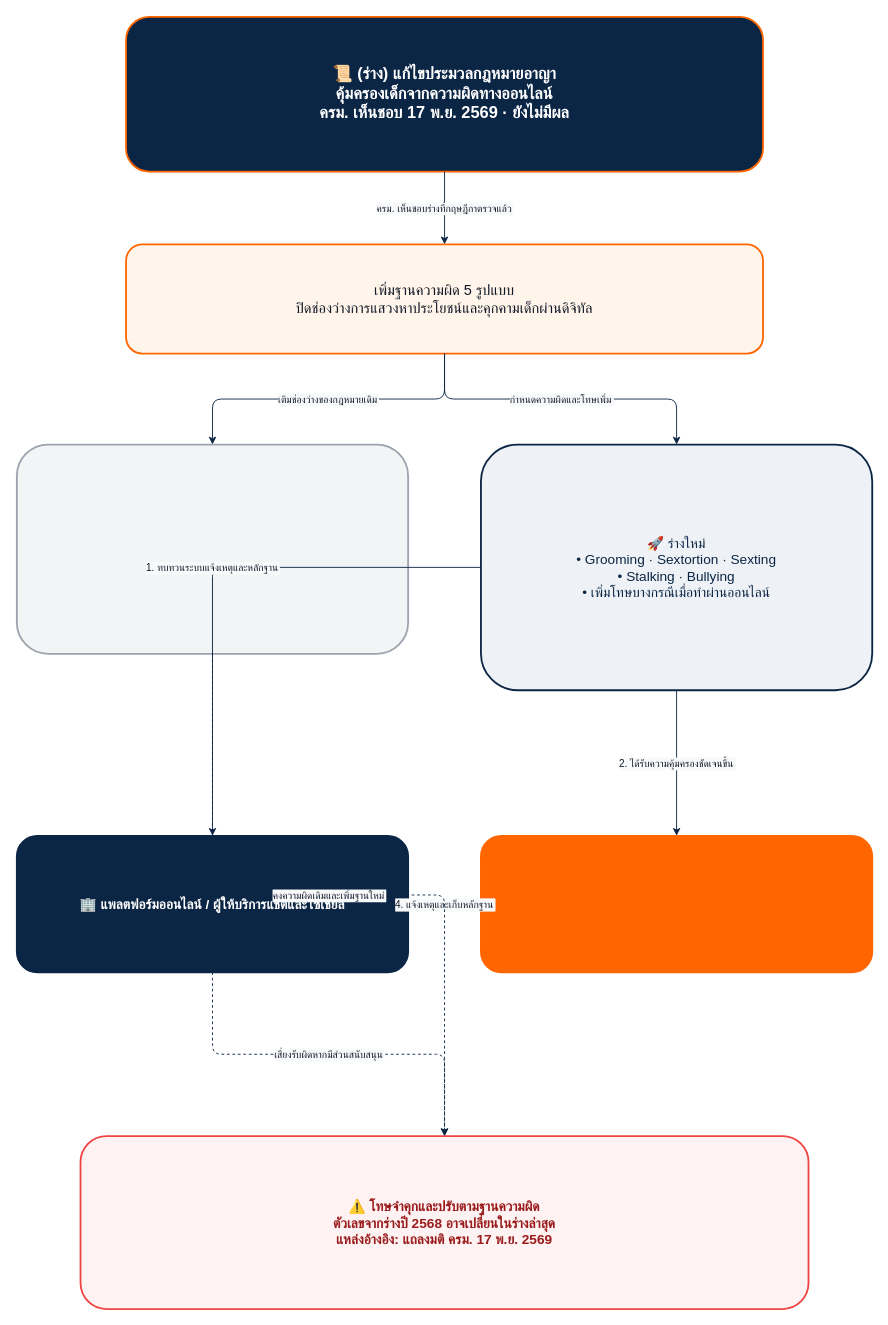
Some shapes in this 888 by 1325 pixel diagram are drawn without their labels. The shapes that lost their labels are listed below. From the top down, each one's centre as x and y in pixels, then its label:
At point (212, 548): "🏛️ กฎหมายปัจจุบัน • ใช้ฐานความผิดทั่วไปบางส่วน • ไม่ครอบคลุมบางพฤติกรรมออนไลน์".
At point (676, 903): "👤 เด็ก เยาวชน ผู้ปกครอง และผู้ใช้ออนไลน์".
